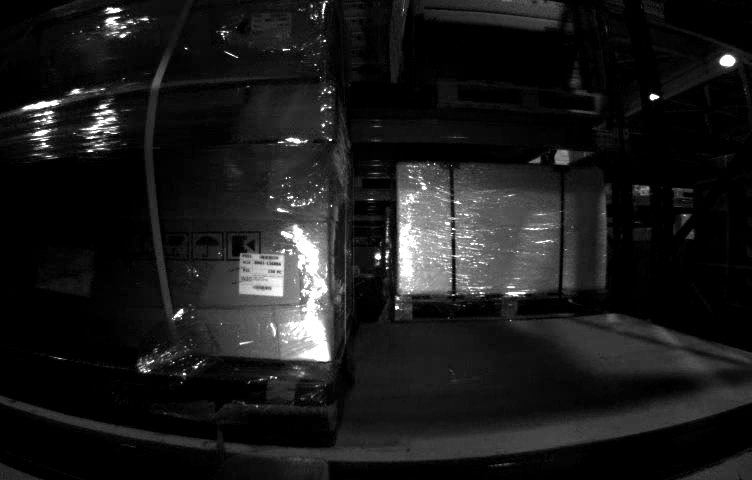True Barcode: (235, 250, 285, 297)
